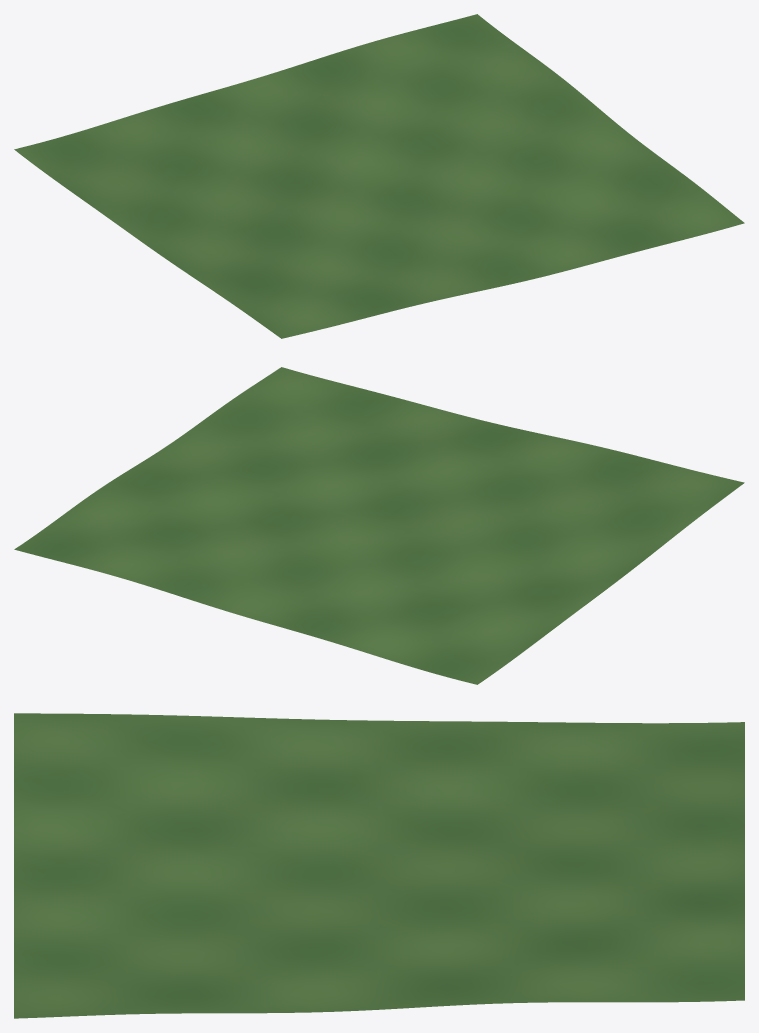
The model's file is chunk_9_1.glb.
3 renders of one model, top to bottom at view 1: azimuth 30°, elevation 25°; view 2: azimuth 150°, elevation 25°; view 3: azimuth 270°, elevation 25°, orthographic. The views are drawn at different scales.
Bounding box in the file's own units: 512 × 24.44 × 512.
